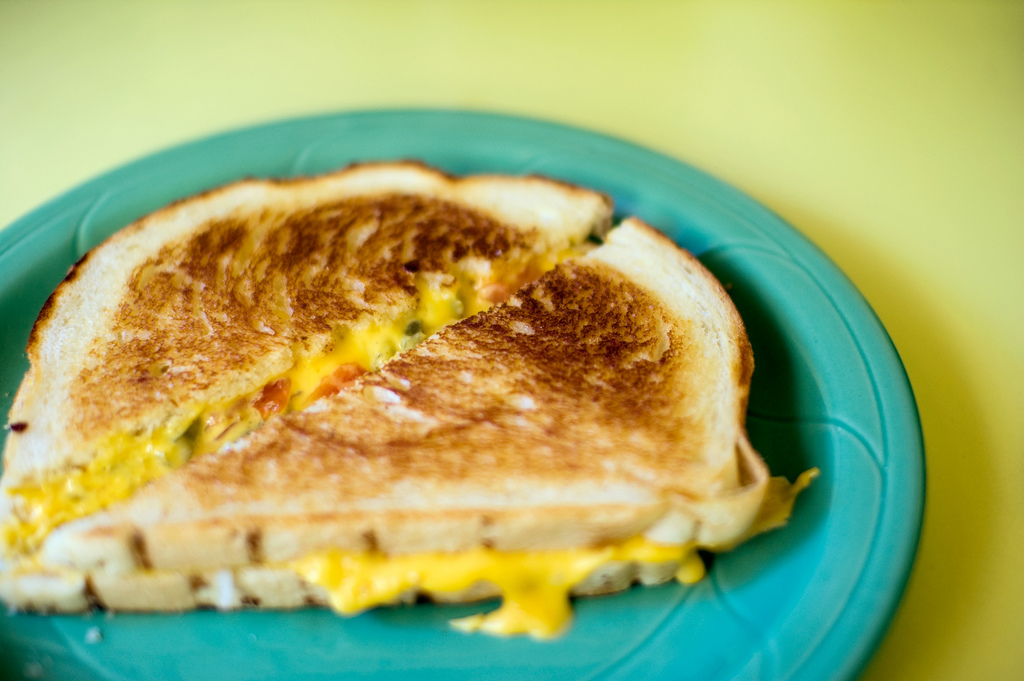slice of bread: (96, 217, 696, 519)
